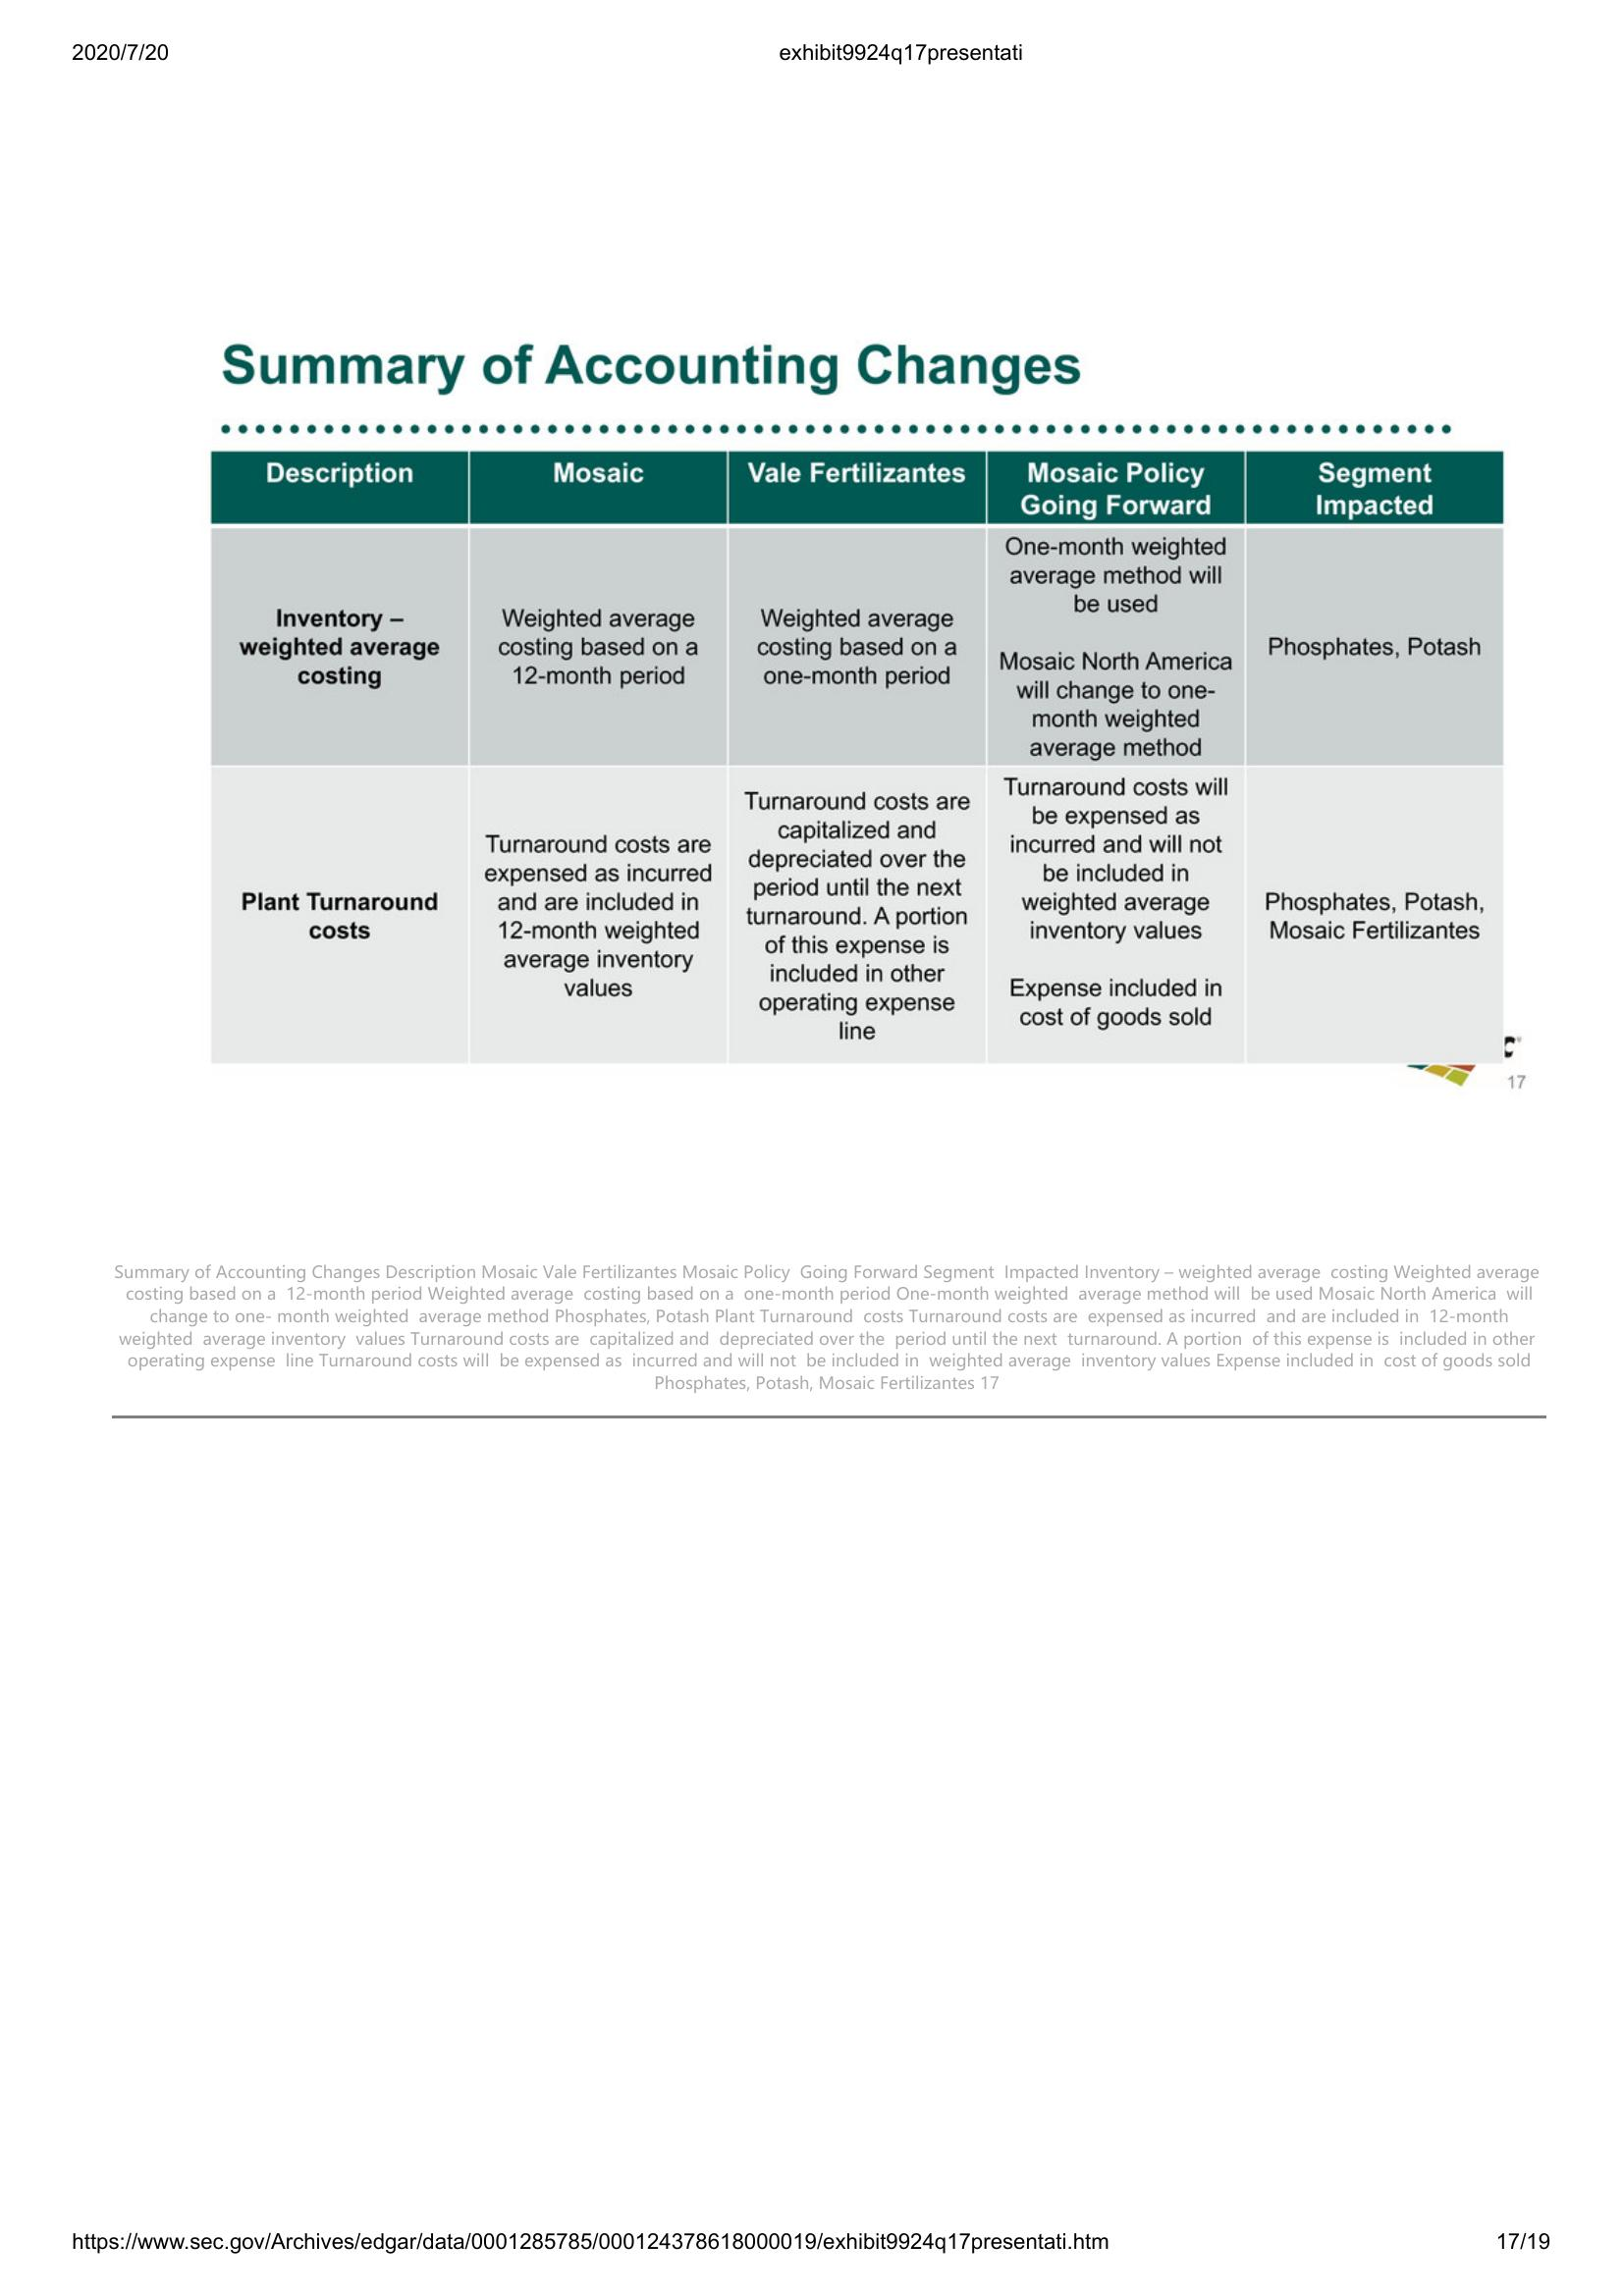table: (207, 444, 1518, 1071)
